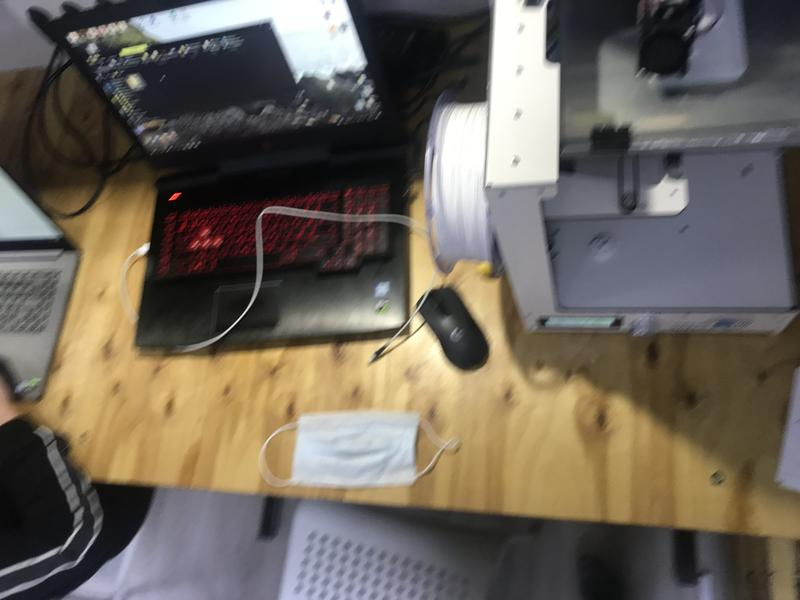medical_mask: (259, 413, 458, 487)
